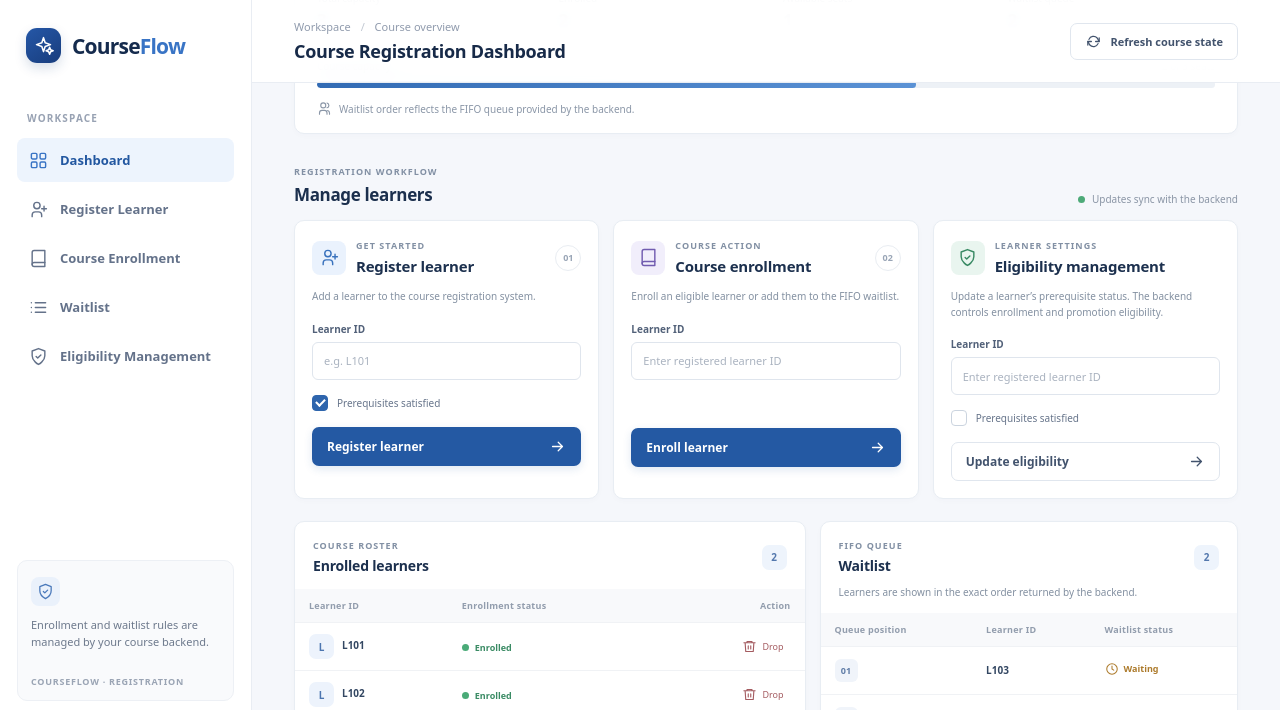
Test case: CourseFlow dashboard › reports an unknown learner using the backend error message
(page scrolled)
In the field labelled "Learner ID" below "COURSE ACTION": (766, 360) x1=631 y1=342 x2=901 y2=380, type "L999"
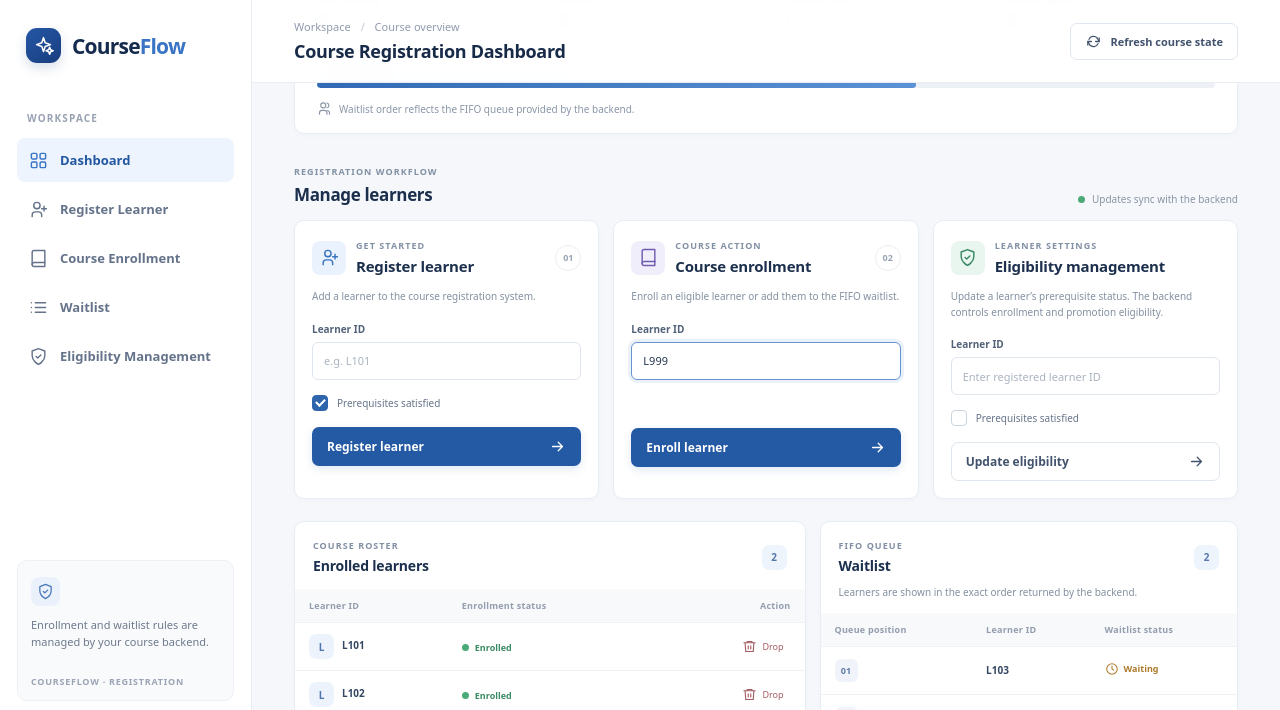
Click the button "Enroll learner": (687, 447) x1=631 y1=428 x2=901 y2=466
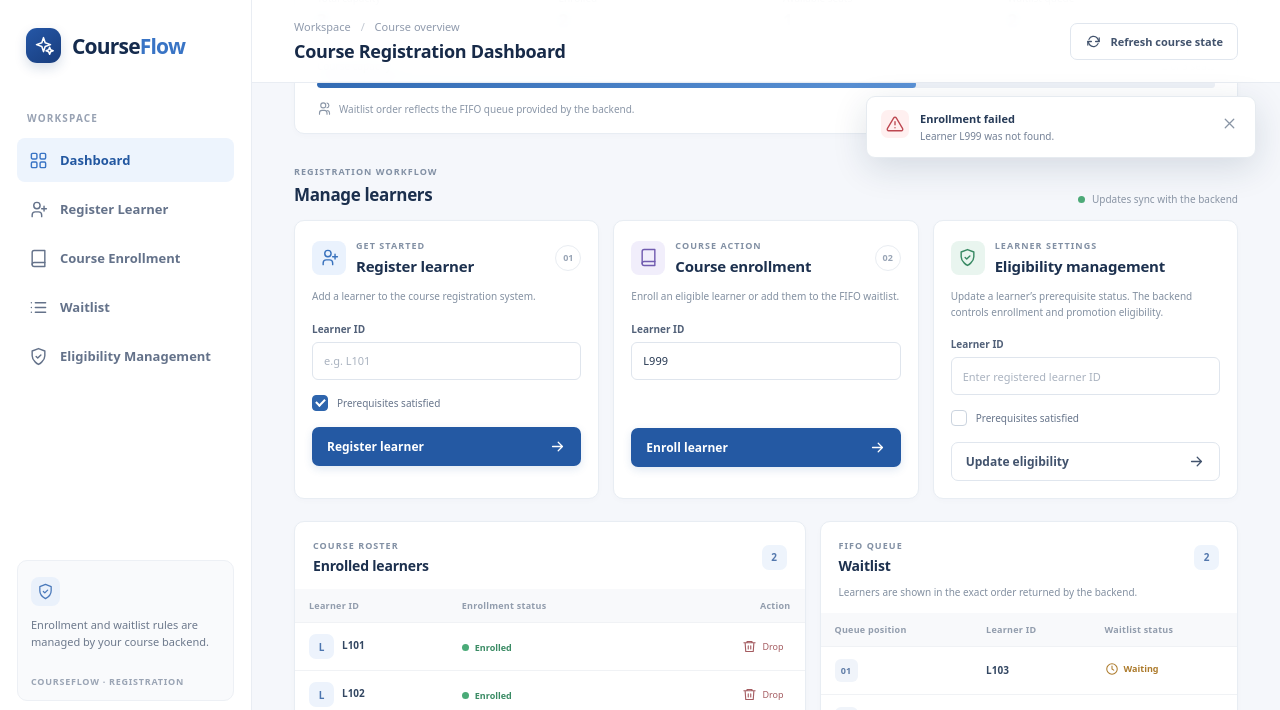
Check: the text "Learner L999 was not found." is shown, box x1=920 y1=129 x2=1054 y2=143
